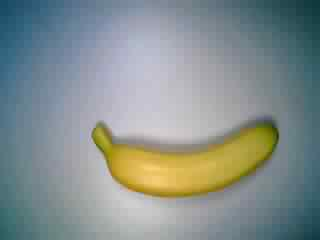banana: (89, 113, 284, 201)
